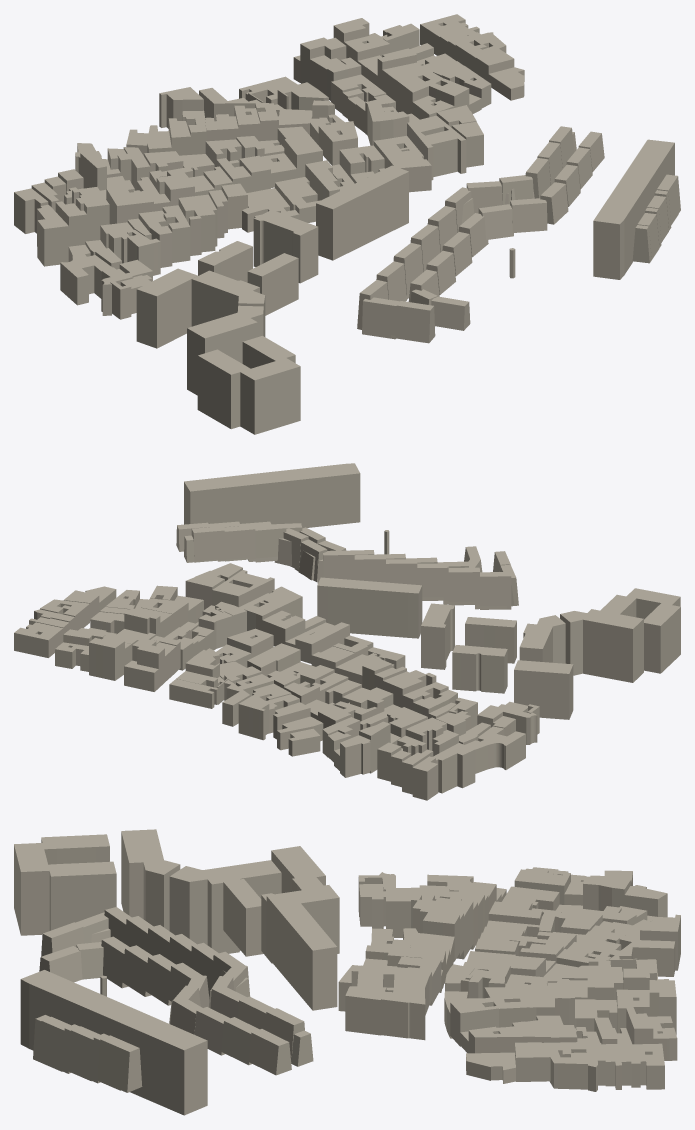
The model's file is bormla_61_30_mid.glb.
3 views of the same model, one above another, from view 1: azimuth 30°, elevation 25°; view 2: azimuth 150°, elevation 25°; view 3: azimuth 270°, elevation 25° (orthographic). The views are drawn at different scales.
Visible parts, largest first — view 1: geometry_0; view 2: geometry_0; view 3: geometry_0.
Boxes of the visible parts, box(x1,y1,x2,y2) form: geometry_0: box(14, 14, 680, 434); geometry_0: box(14, 463, 680, 800); geometry_0: box(14, 829, 680, 1115).
Size of the model in its own units: 198 by 44.06 by 192.
